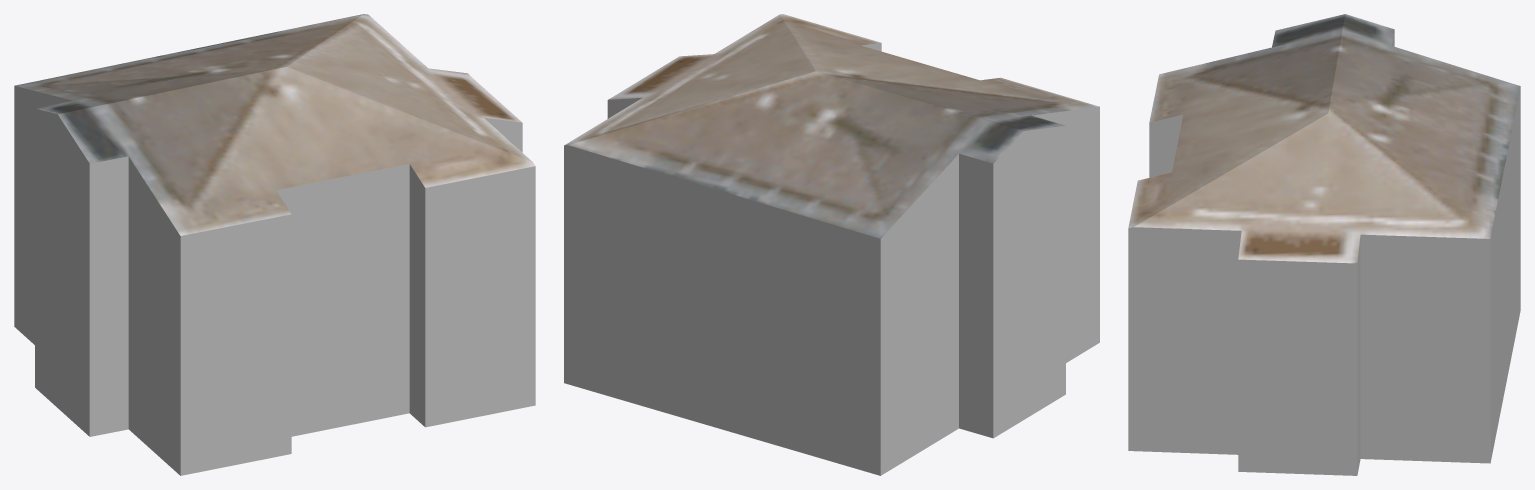
The model's file is DEBW_0010007Tvl6.gltf.
The picture shows the model from 3 angles, left to right: view 1: azimuth 30°, elevation 25°; view 2: azimuth 150°, elevation 25°; view 3: azimuth 270°, elevation 25°; orthographic projection. The views are drawn at different scales.
Parts seen in each view (by area): view 1: Z_UP; view 2: Z_UP; view 3: Z_UP.
Part boxes in pixels (bbox=[...]): Z_UP: bbox=[14, 14, 535, 475]; Z_UP: bbox=[564, 14, 1099, 475]; Z_UP: bbox=[1128, 14, 1520, 475].
Size of the model in its own units: 19.96 by 13.31 by 17.3.
Materials: 2 (1 with a texture image).
